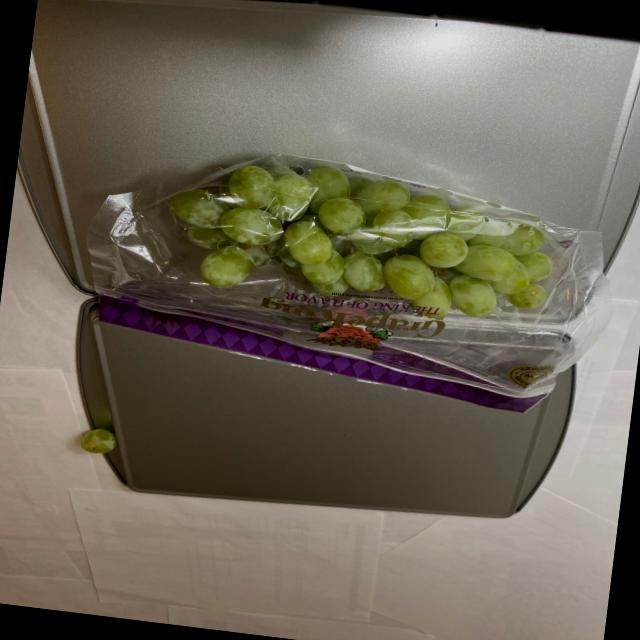grapes: (147, 146, 578, 332)
